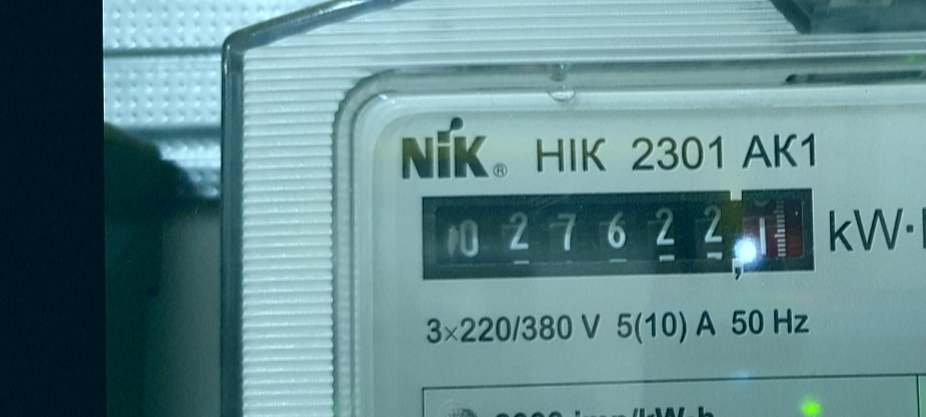0: (456, 216, 481, 259)
1: (753, 214, 770, 258)
2: (506, 210, 530, 253), (651, 206, 676, 247), (701, 203, 724, 245)
6: (604, 210, 626, 250)
7: (555, 211, 578, 255)
screen: (408, 179, 827, 287)
